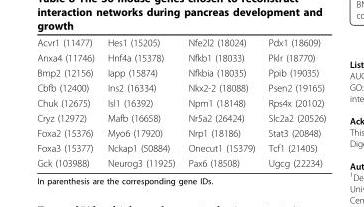table: (36, 36, 325, 168)
table column: (100, 36, 181, 168), (181, 36, 261, 168), (36, 36, 100, 168), (261, 36, 325, 168)
table row: (36, 79, 325, 95), (36, 49, 325, 64), (36, 64, 325, 79), (36, 95, 325, 110), (36, 110, 325, 125), (36, 125, 325, 140), (36, 140, 325, 155), (36, 36, 325, 49), (36, 155, 325, 168)
